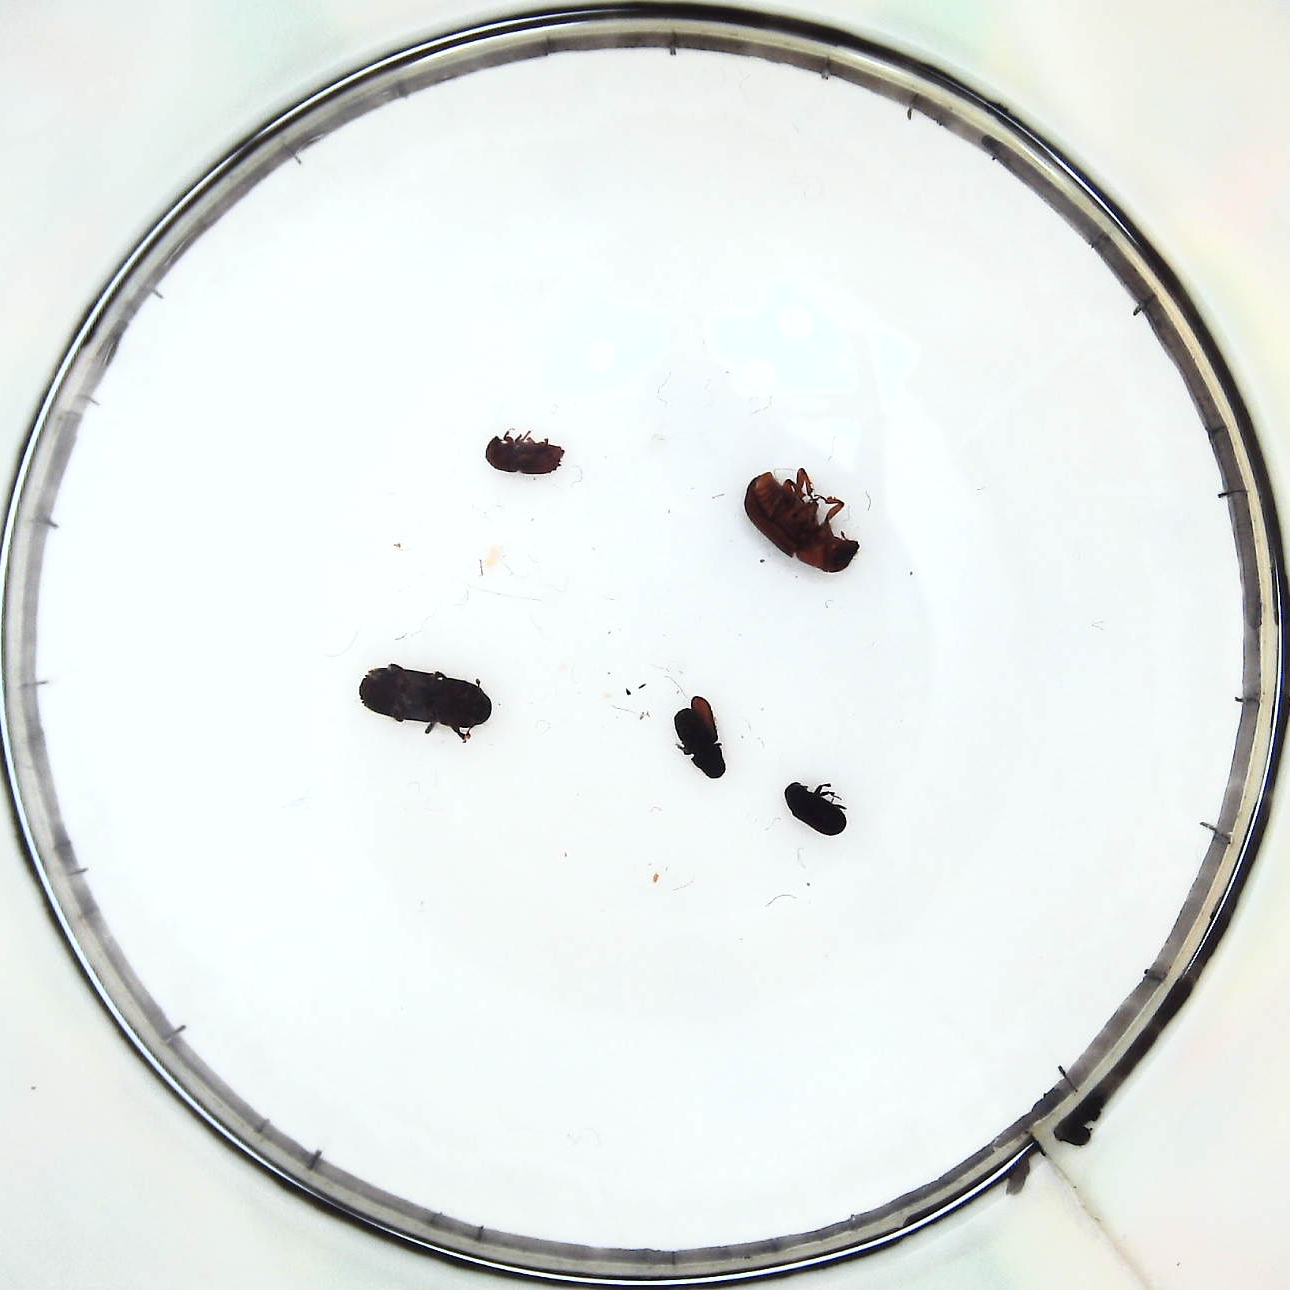Boerner: (361, 660, 495, 740)
Leconte: (745, 465, 862, 573)
Linnaeus: (482, 432, 571, 475)
armandi: (667, 693, 734, 786)
coleoptera: (788, 781, 843, 839)
